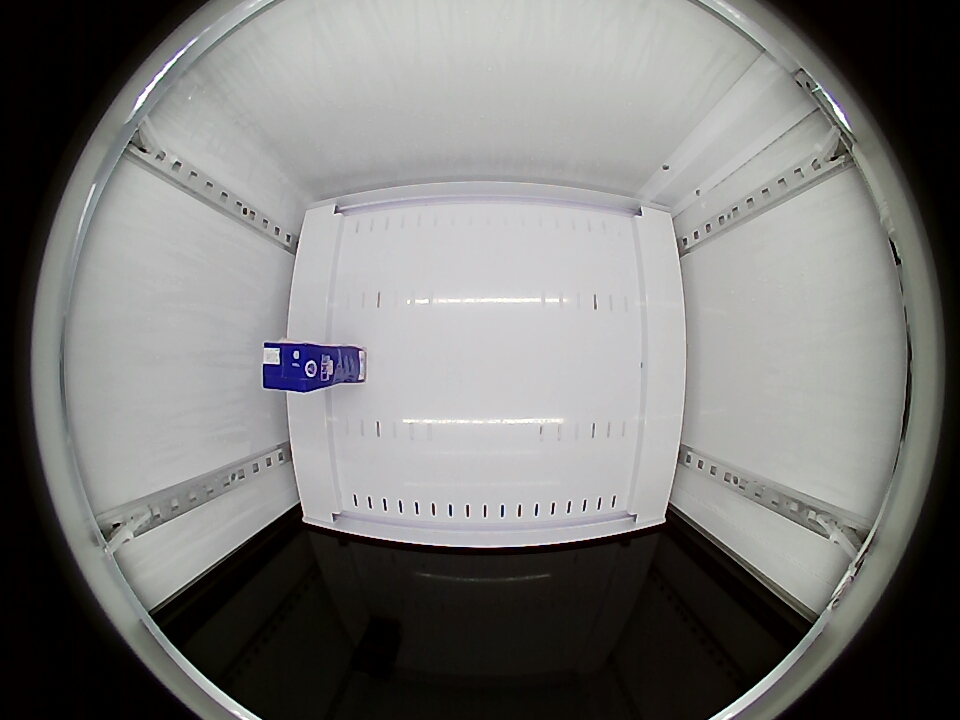bingqilinniunai: (262, 342, 323, 393)
